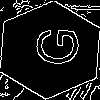G: (25, 25, 80, 67)
